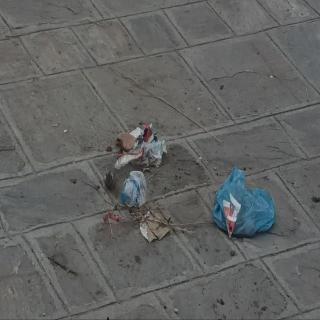Plastic-bottle: (121, 169, 150, 212)
